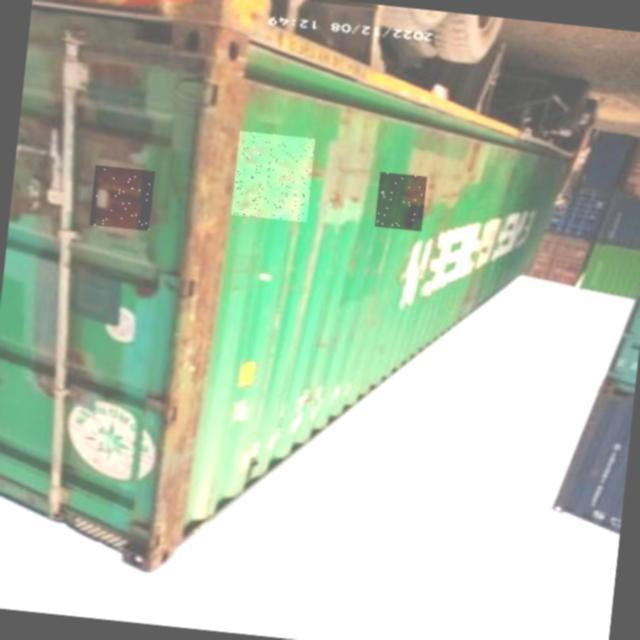rust: (232, 132, 316, 223), (90, 166, 156, 232), (375, 172, 428, 232)
